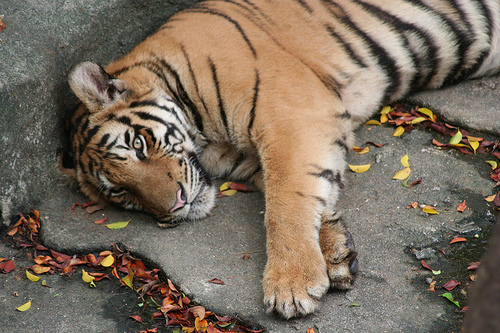Tigre: (48, 42, 250, 256)
